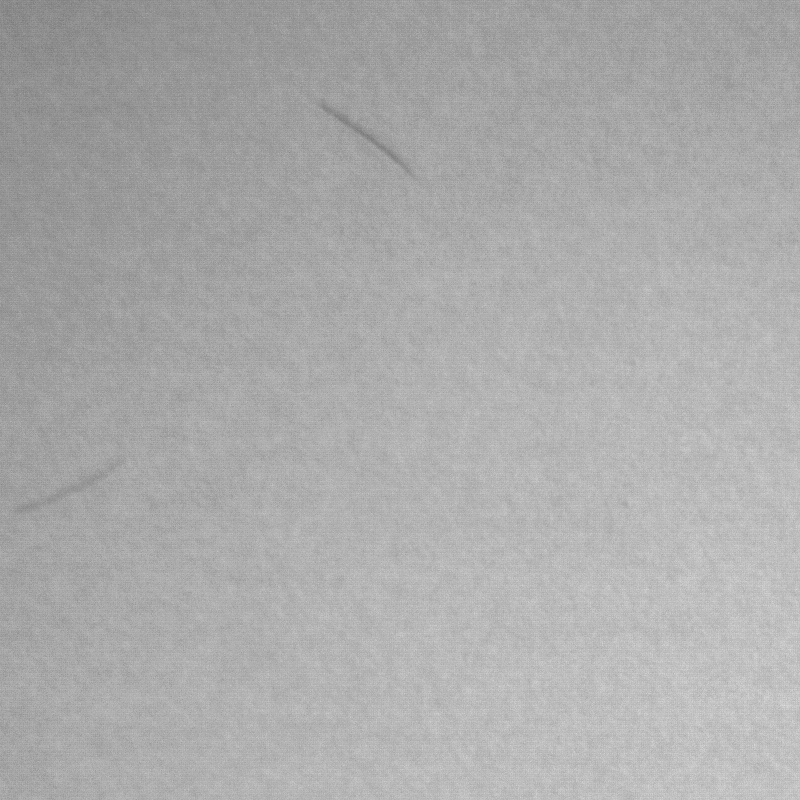defect: (320, 108, 417, 183), (14, 461, 121, 516)
